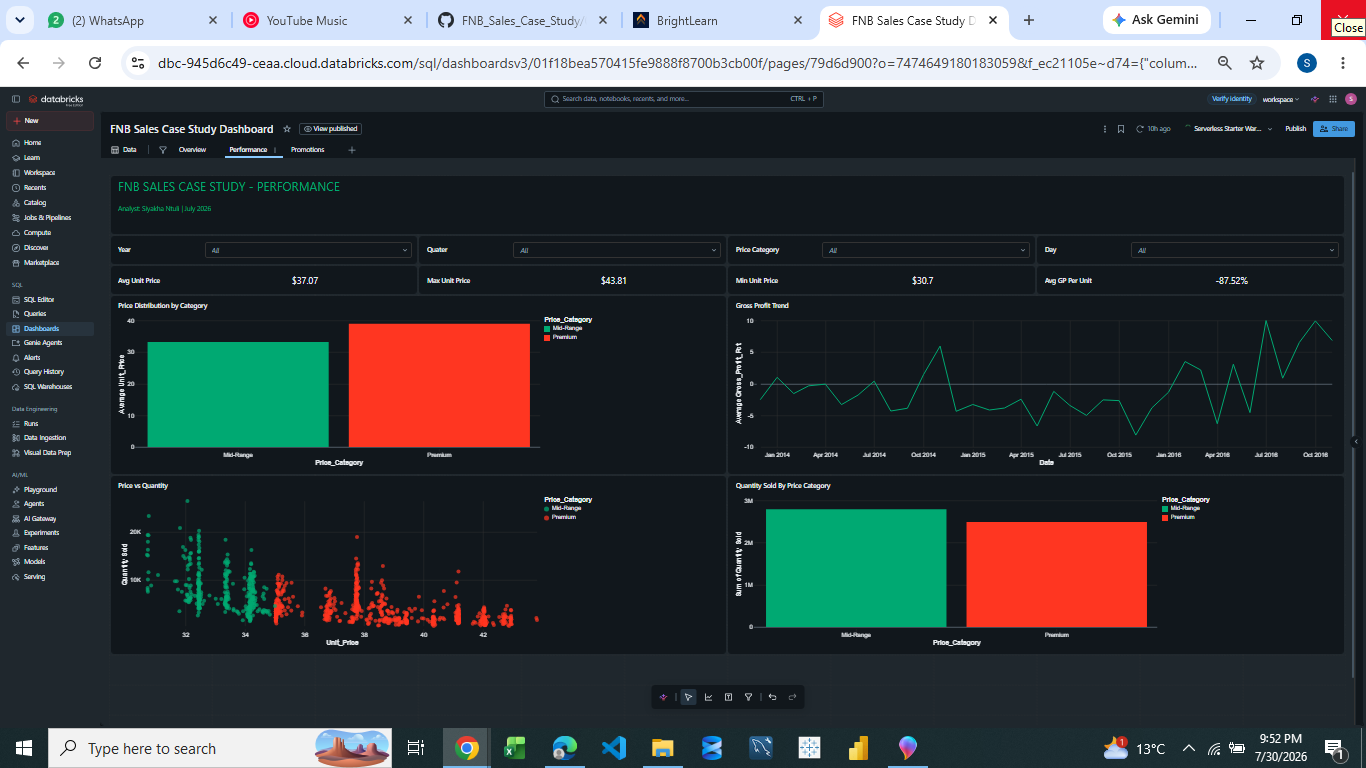

What the dashboard file says about the page in this screenshot:
{"tool":"powerbi","page":{"name":"Performance","canvas":[1280,800],"ordinal":1},"visuals":[{"type":"textbox","box":[0,0,1280,98.8],"z":0},{"type":"slicer","fields":{"Values":["FNB_POWER__BI (1).Year"]},"box":[0,108.8,340,92.5],"z":1},{"type":"slicer","fields":{"Values":["FNB_POWER__BI (1).Quarter"]},"box":[340,108.8,340,92.5],"z":2},{"type":"slicer","fields":{"Values":["FNB_POWER__BI (1).Price_Category"]},"box":[680,108.8,300,92.5],"z":3},{"type":"slicer","fields":{"Values":["FNB_POWER__BI (1).Day_Name"]},"box":[980,108.8,300,92.5],"z":4},{"type":"cardVisual","title":"Avg Unit Price","fields":{"Data":["Avg(FNB_POWER__BI (1).Unit_Price)"]},"box":[0,211.2,340,100],"z":5},{"type":"cardVisual","title":"Max Unit Price","fields":{"Data":["Max(FNB_POWER__BI (1).Unit_Price)"]},"box":[340,211.2,340,100],"z":6},{"type":"cardVisual","title":"Min Unit Price","fields":{"Data":["Min(FNB_POWER__BI (1).Unit_Price)"]},"box":[680,211.2,300,100],"z":7},{"type":"cardVisual","title":"Avg GP Per Unit","fields":{"Data":["Avg(FNB_POWER__BI (1).GP_Per_Unit_Pct)"]},"box":[980,211.2,300,100],"z":8},{"type":"columnChart","title":"Price Distribution by Category","fields":{"Category":["FNB_POWER__BI (1).Price_Category"],"Y":["Avg(FNB_POWER__BI (1).Unit_Price)"],"Series":["FNB_POWER__BI (1).Price_Category"]},"box":[0,312.5,631.2,217.5],"z":9},{"type":"lineChart","title":"Gross Profit Trend","fields":{"Category":["FNB_POWER__BI (1).Date.Variation.Date Hierarchy.Month"],"Y":["Sum(FNB_POWER__BI (1).Gross_Profit_Pct)"]},"box":[640,312.5,640,218.8],"z":10},{"type":"columnChart","title":"Quantity by Price Category","fields":{"Category":["FNB_POWER__BI (1).Price_Category"],"Y":["Sum(FNB_POWER__BI (1).Quantity Sold)"],"Series":["FNB_POWER__BI (1).Price_Category"]},"box":[640,550,640,218.8],"z":11},{"type":"scatterChart","title":"Price Vs Quantity","fields":{"Y":["Avg(FNB_POWER__BI (1).Quantity Sold)"],"X":["Avg(FNB_POWER__BI (1).Unit_Price)"],"Category":["FNB_POWER__BI (1).Sales"],"Series":["FNB_POWER__BI (1).Price_Category"]},"box":[0,550,631.2,218.8],"z":12}]}

Visuals, with their boxes on the page's 1280x800 design canvas (x1, y1, x2, y2). These are canvas units, not pixel positions in the 1366x768 screenshot, which may show the page scaled, cropped or inside an application window:
textbox: (x1=0, y1=0, x2=1280, y2=99)
slicer - FNB_POWER__BI (1).Year: (x1=0, y1=109, x2=340, y2=201)
slicer - FNB_POWER__BI (1).Quarter: (x1=340, y1=109, x2=680, y2=201)
slicer - FNB_POWER__BI (1).Price_Category: (x1=680, y1=109, x2=980, y2=201)
slicer - FNB_POWER__BI (1).Day_Name: (x1=980, y1=109, x2=1280, y2=201)
"Avg Unit Price" cardVisual: (x1=0, y1=211, x2=340, y2=311)
"Max Unit Price" cardVisual: (x1=340, y1=211, x2=680, y2=311)
"Min Unit Price" cardVisual: (x1=680, y1=211, x2=980, y2=311)
"Avg GP Per Unit" cardVisual: (x1=980, y1=211, x2=1280, y2=311)
"Price Distribution by Category" columnChart: (x1=0, y1=312, x2=631, y2=530)
"Gross Profit Trend" lineChart: (x1=640, y1=312, x2=1280, y2=531)
"Quantity by Price Category" columnChart: (x1=640, y1=550, x2=1280, y2=769)
"Price Vs Quantity" scatterChart: (x1=0, y1=550, x2=631, y2=769)
